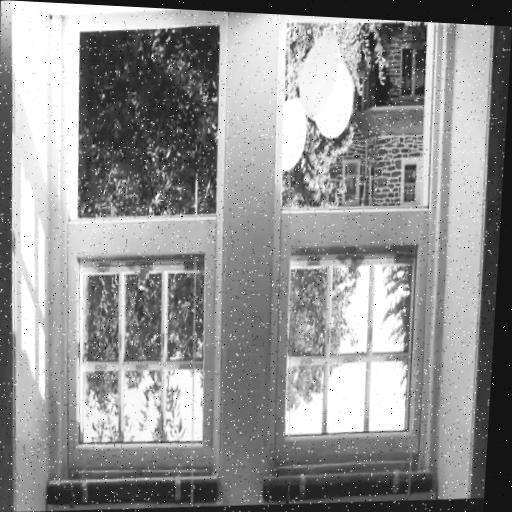balloon: (294, 34, 340, 123), (312, 61, 356, 141), (277, 99, 307, 175)
